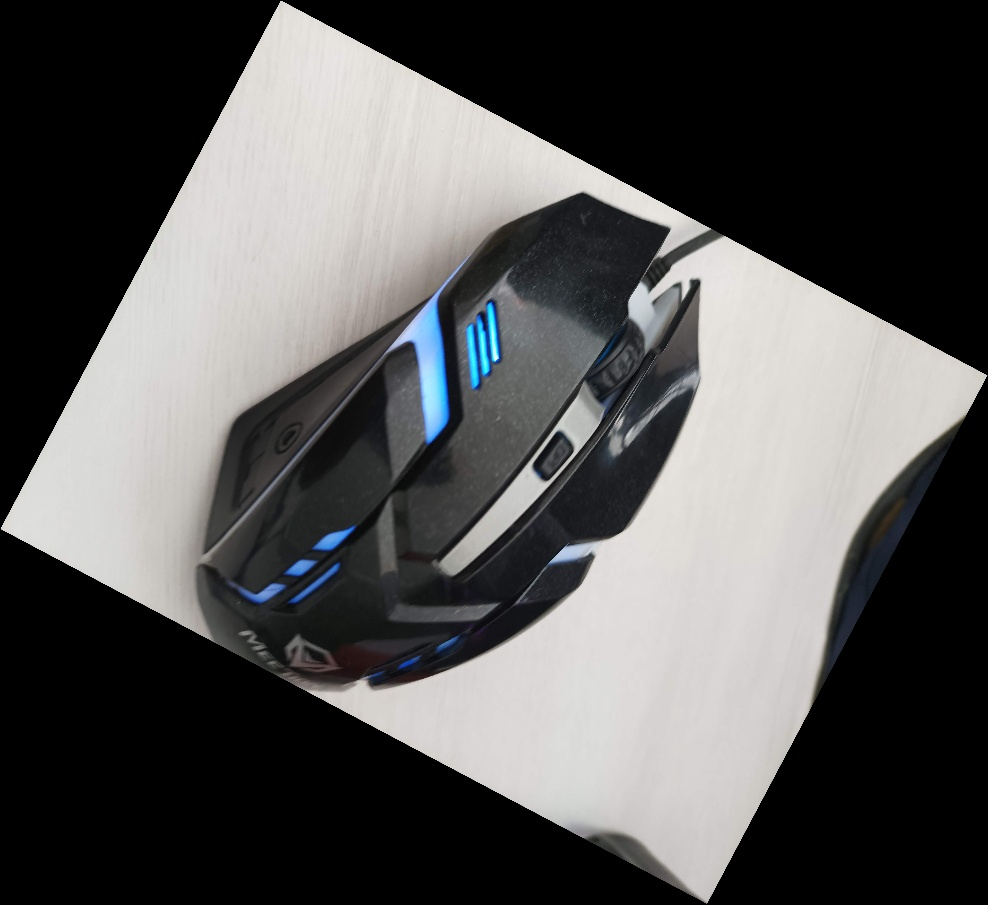mouse: (192, 189, 705, 699)
